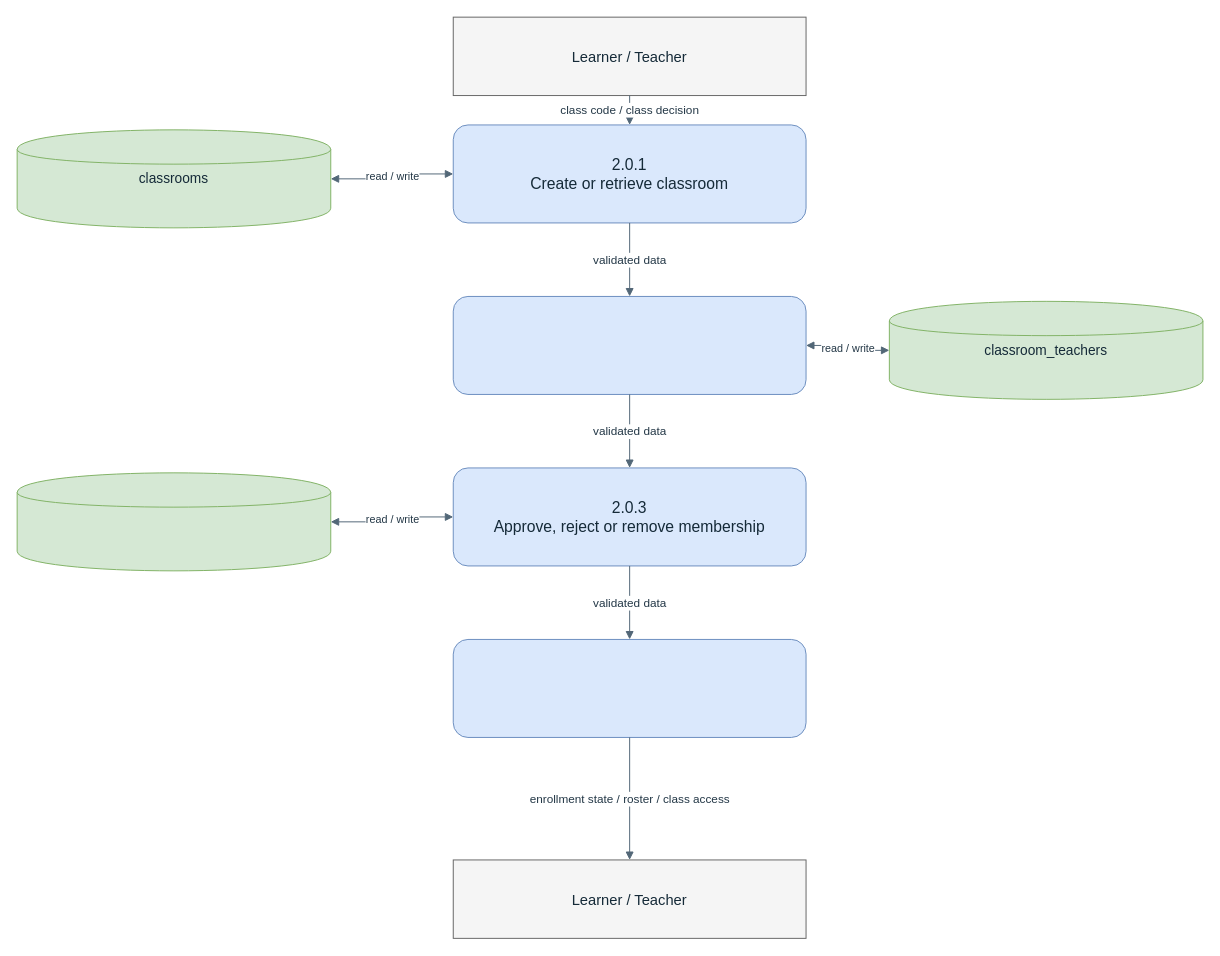
Some shapes in this 1220 by 956 pixel diagram are drawn without their labels. The shapes that lost their labels are listed below. From the top down, each one's centre as x and y in pixels, then its label:
At point (629, 344): "2.0.2 Submit join request".
At point (173, 521): "enrollments".
At point (629, 687): "2.0.4 Return permitted roster and class access".
